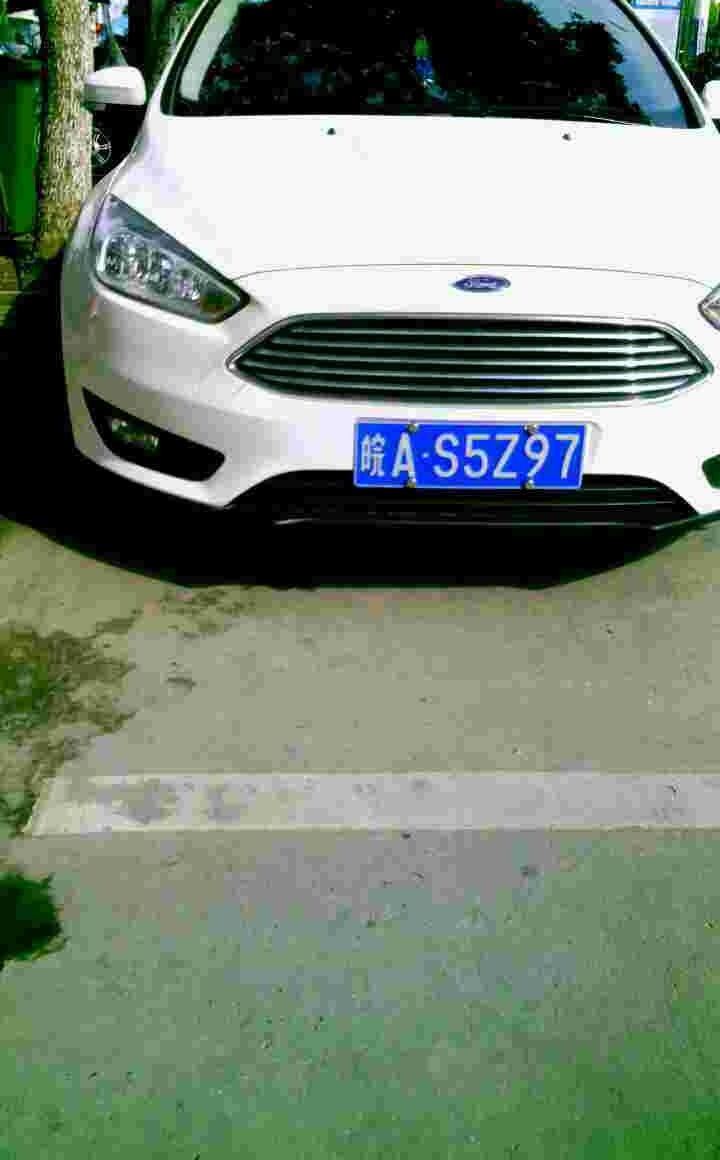plate: (354, 418, 594, 494)
